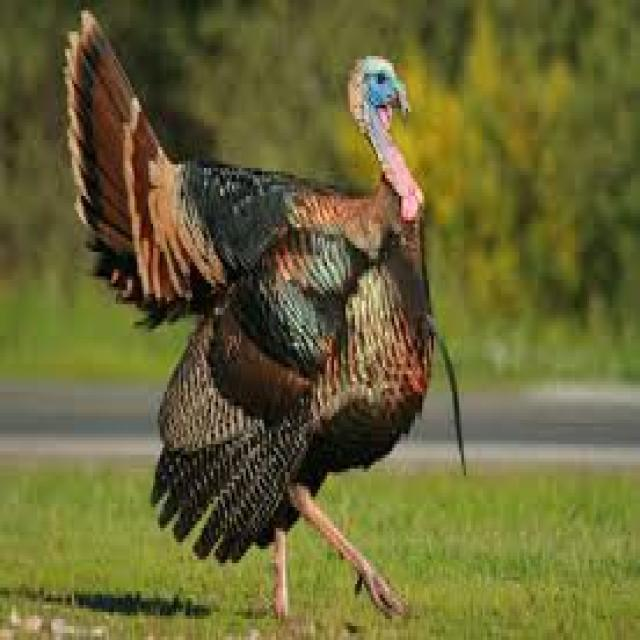Turkey: (58, 10, 481, 618)
